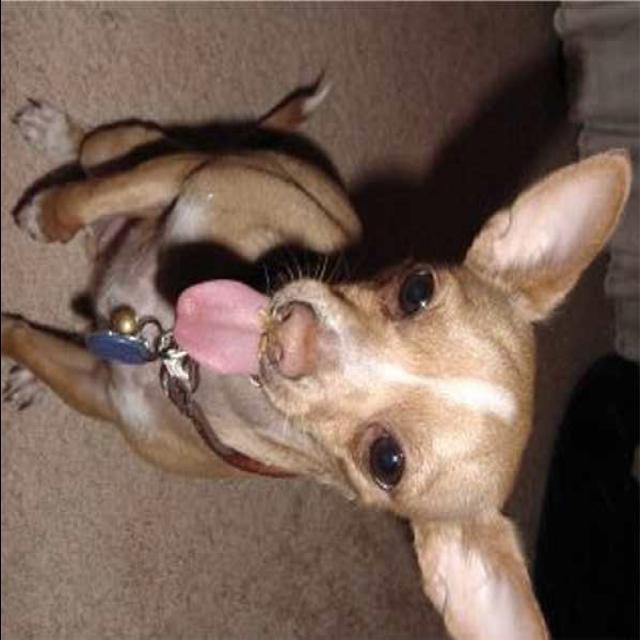chihuahua: (4, 76, 634, 634)
